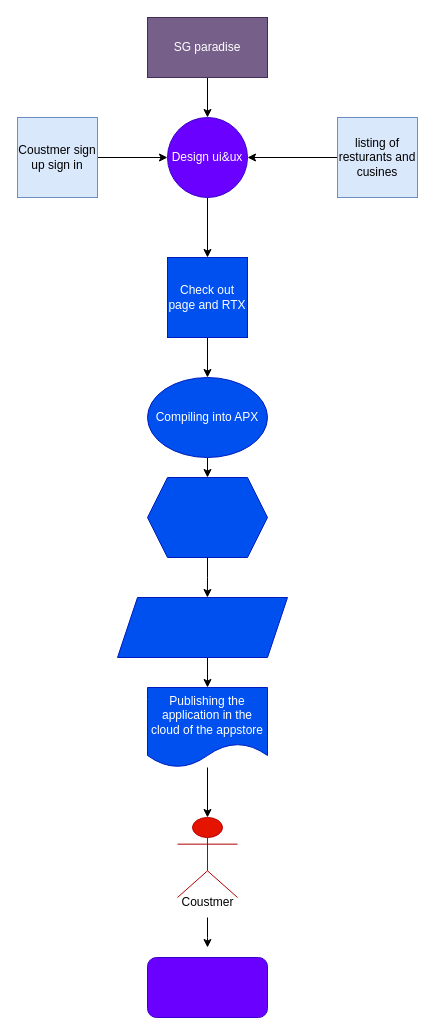
Image size: 435x1035. Some labels were removed from this diagram. Here are the shapes that lost their labels. From the top down, the centre of each, then its label:
pixel 207 517: No bugs found
pixel 202 627: Writing permissions for Deployment
pixel 207 987: No feedback is recieved
